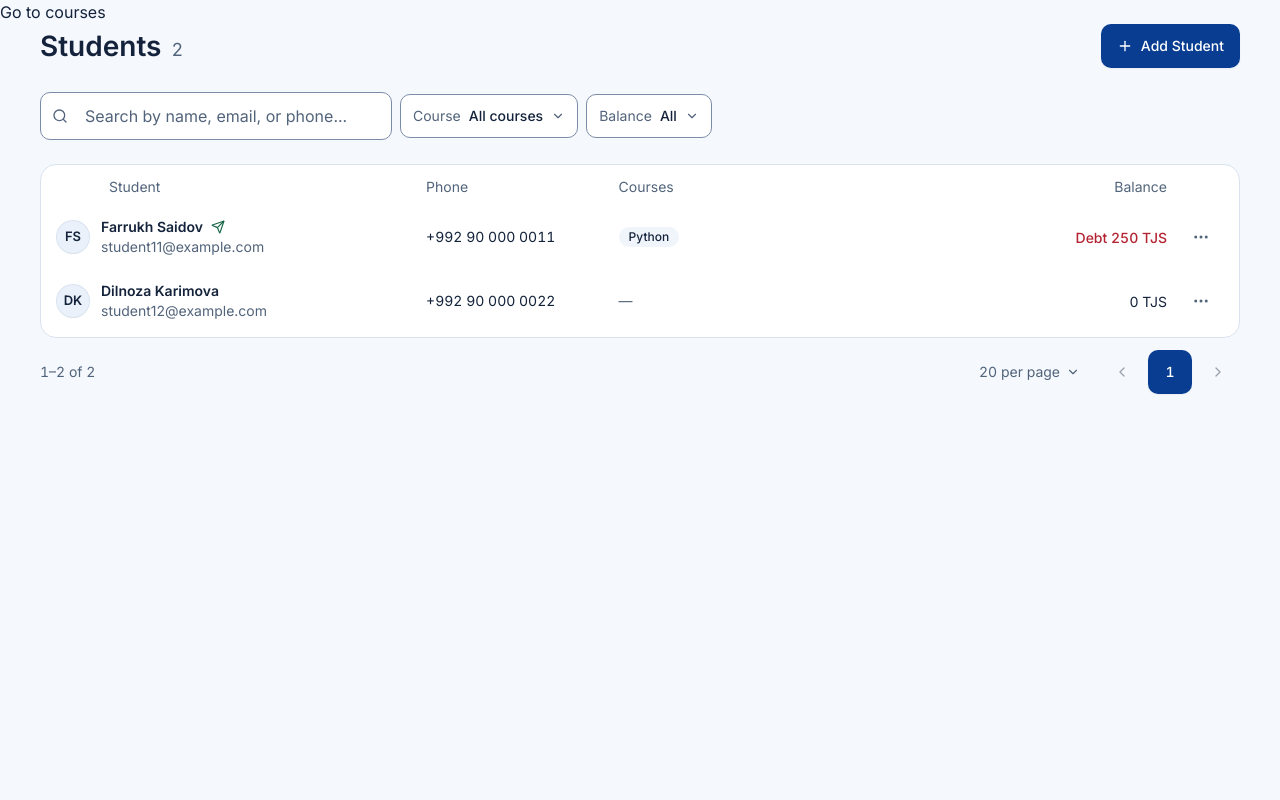
Students page › opens create panel when Add Student button is clicked
Click the button "Add Student" at (1170, 46), box 1101,24 -> 1240,68
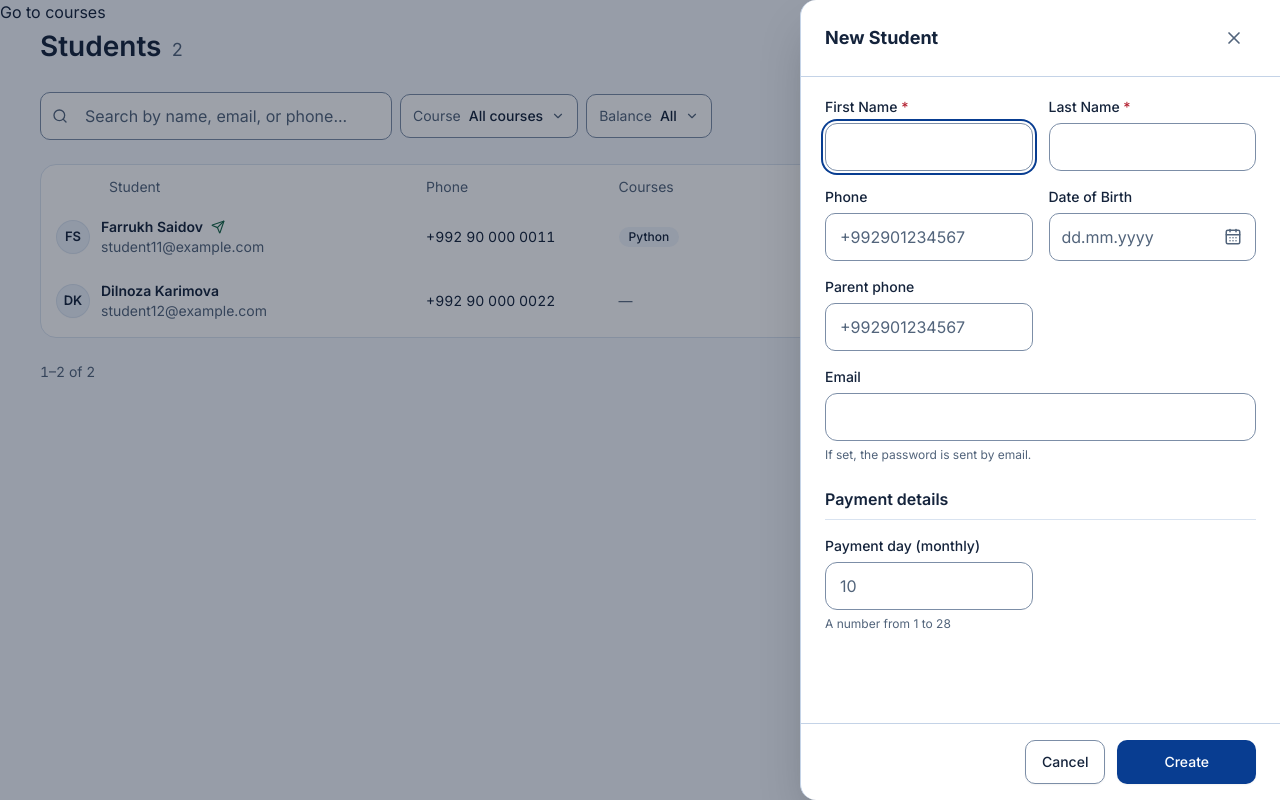
expect the heading "New Student" is shown: met, box 825,24 -> 938,52
